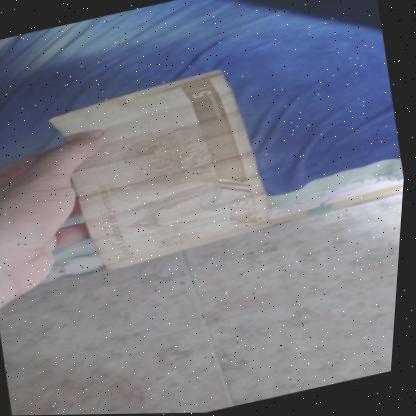five-back-vef: (40, 63, 285, 279)
